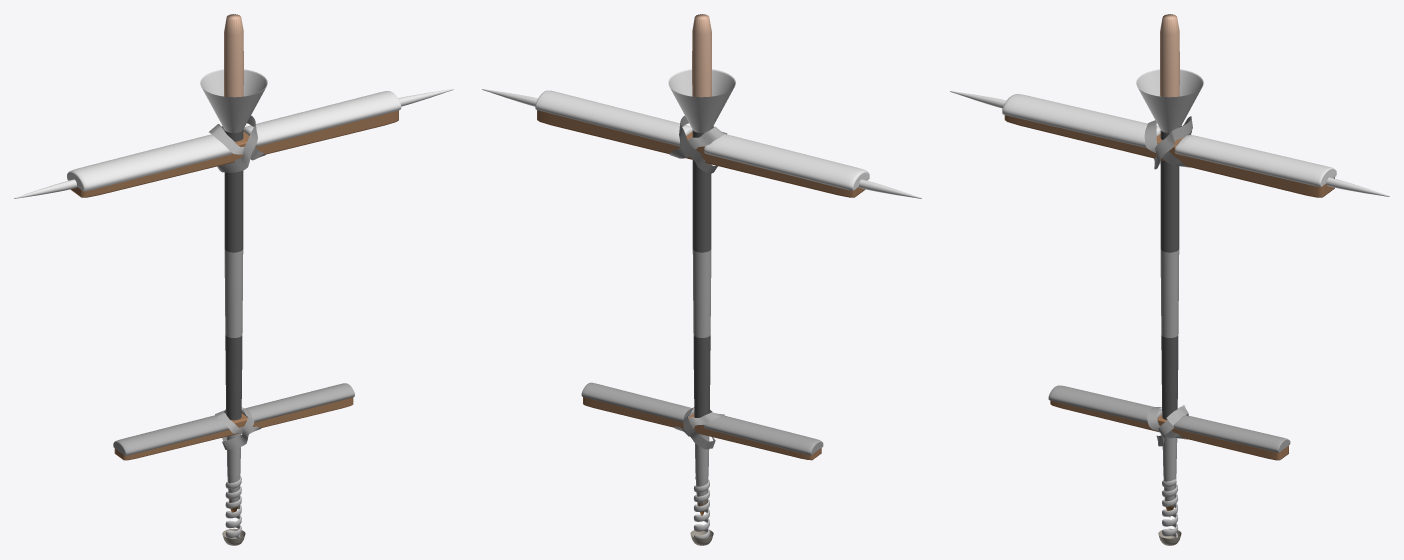
File: Medieval Pogo Stick (Updated).fbx
3 views of the same model, side by side, from view 1: azimuth 30°, elevation 25°; view 2: azimuth 150°, elevation 25°; view 3: azimuth 330°, elevation 25° (orthographic).
Visible parts, largest first — view 1: pasted__pCylinder5; view 2: pasted__pCylinder5; view 3: pasted__pCylinder5.
Part boxes in pixels (x1,y1,x2,y2): pasted__pCylinder5: (14, 14, 453, 545); pasted__pCylinder5: (482, 14, 921, 545); pasted__pCylinder5: (950, 14, 1389, 545).
Size of the model in its own units: 67.09 by 76.93 by 8.97.
